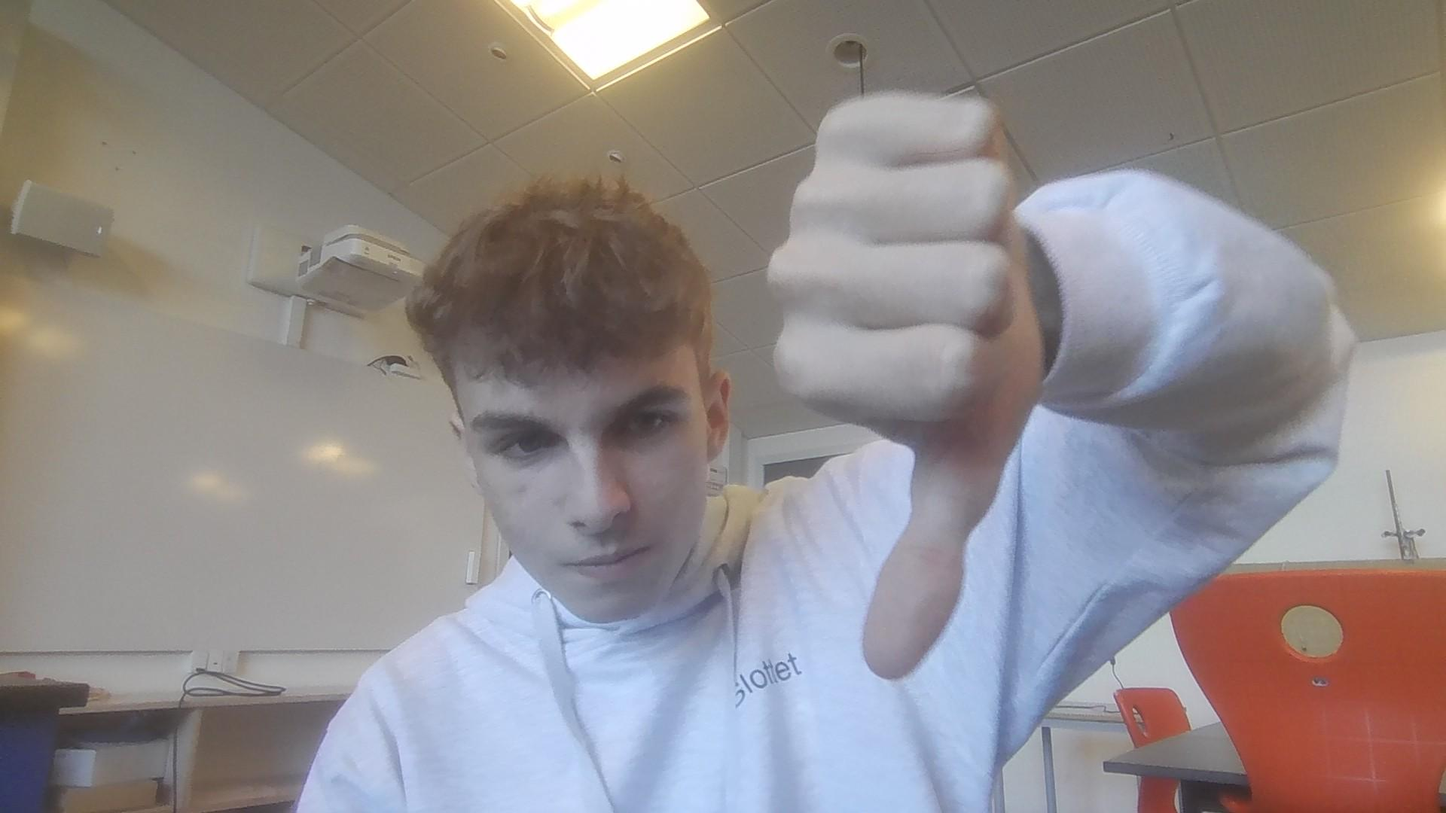thumbs down: (764, 85, 1063, 687)
